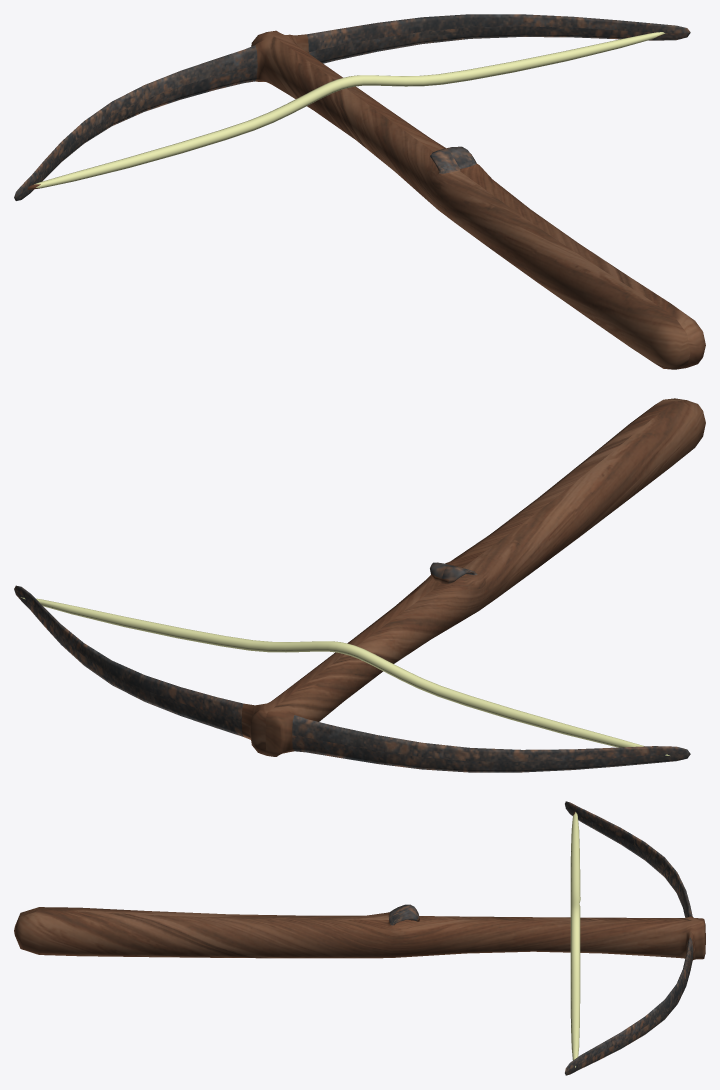
File: Crossbow6.fbx
3 renders of one model, top to bottom at view 1: azimuth 30°, elevation 25°; view 2: azimuth 150°, elevation 25°; view 3: azimuth 270°, elevation 25°, orthographic. The views are drawn at different scales.
Visible parts, largest first — view 1: Bow; view 2: Bow; view 3: Bow.
Part boxes in pixels (bbox=[...]): Bow: bbox=[14, 14, 705, 369]; Bow: bbox=[14, 398, 705, 772]; Bow: bbox=[14, 801, 705, 1075].
Size of the model in its own units: 1296 by 106 by 1409.
Materials: 3 (2 with a texture image).
